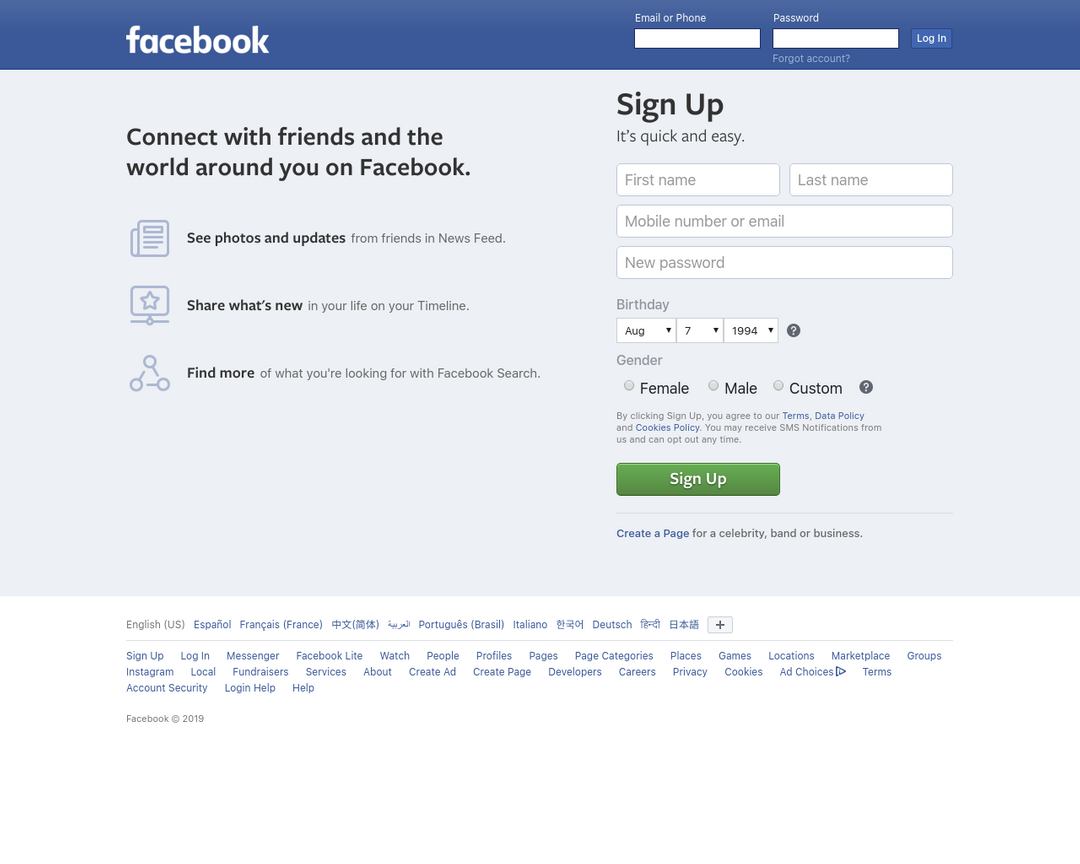Facebook: (120, 18, 284, 62)
